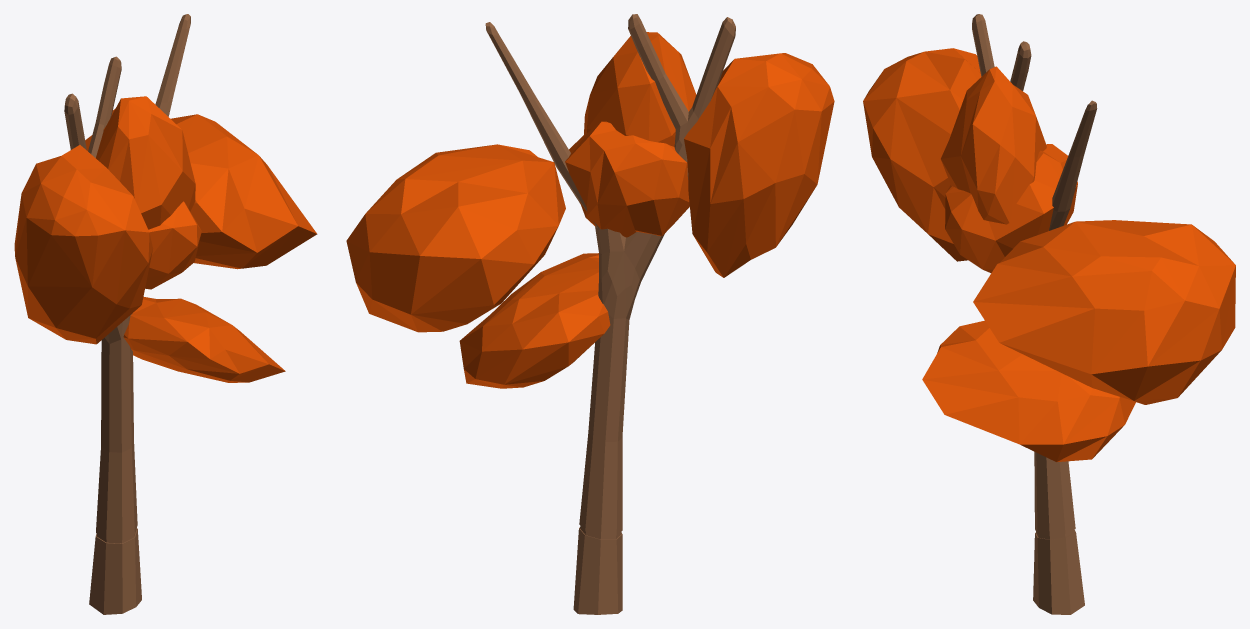
File: tree-autumn-complete-6-010.glb
3 renders of one model, left to right at view 1: azimuth 30°, elevation 25°; view 2: azimuth 150°, elevation 25°; view 3: azimuth 270°, elevation 25°, orthographic. The views are drawn at different scales.
Visible parts, largest first — view 1: TREE 6.003_401, TREE 6.002_402; view 2: TREE 6.003_401, TREE 6.002_402; view 3: TREE 6.003_401, TREE 6.002_402.
Part boxes in pixels (x1=…): TREE 6.003_401: x1=14, y1=96, x2=317, y2=382; TREE 6.002_402: x1=64, y1=14, x2=190, y2=614; TREE 6.003_401: x1=346, y1=32, x2=834, y2=388; TREE 6.002_402: x1=485, y1=14, x2=735, y2=614; TREE 6.003_401: x1=863, y1=48, x2=1235, y2=462; TREE 6.002_402: x1=972, y1=14, x2=1097, y2=614.
Bounding box in the file's own units: 0.9337 × 1.44 × 0.8774.
